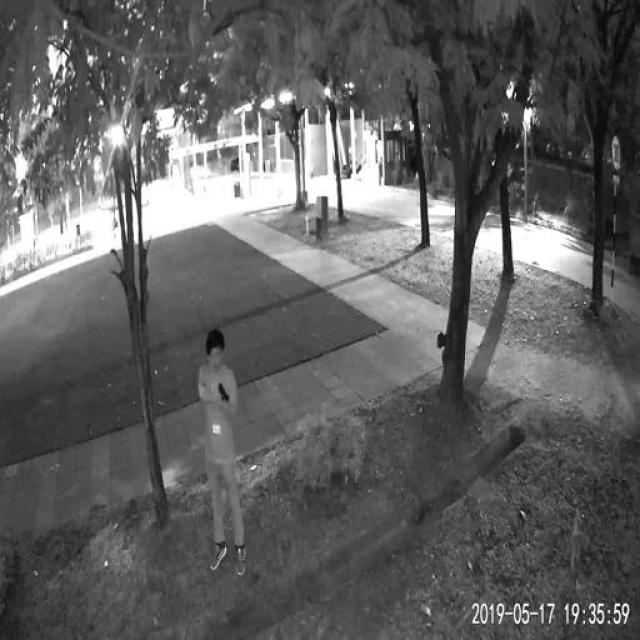Gun: (212, 378, 236, 412)
